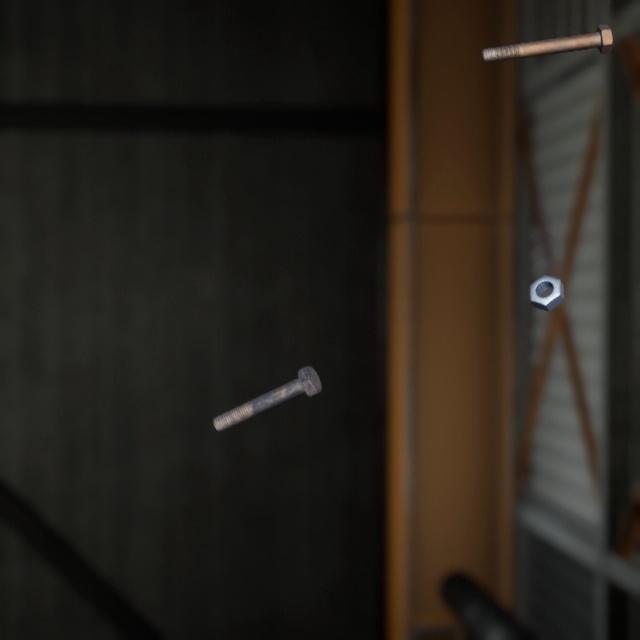bolt: (208, 341, 326, 416), (476, 10, 617, 58)
nut: (525, 253, 568, 298)
